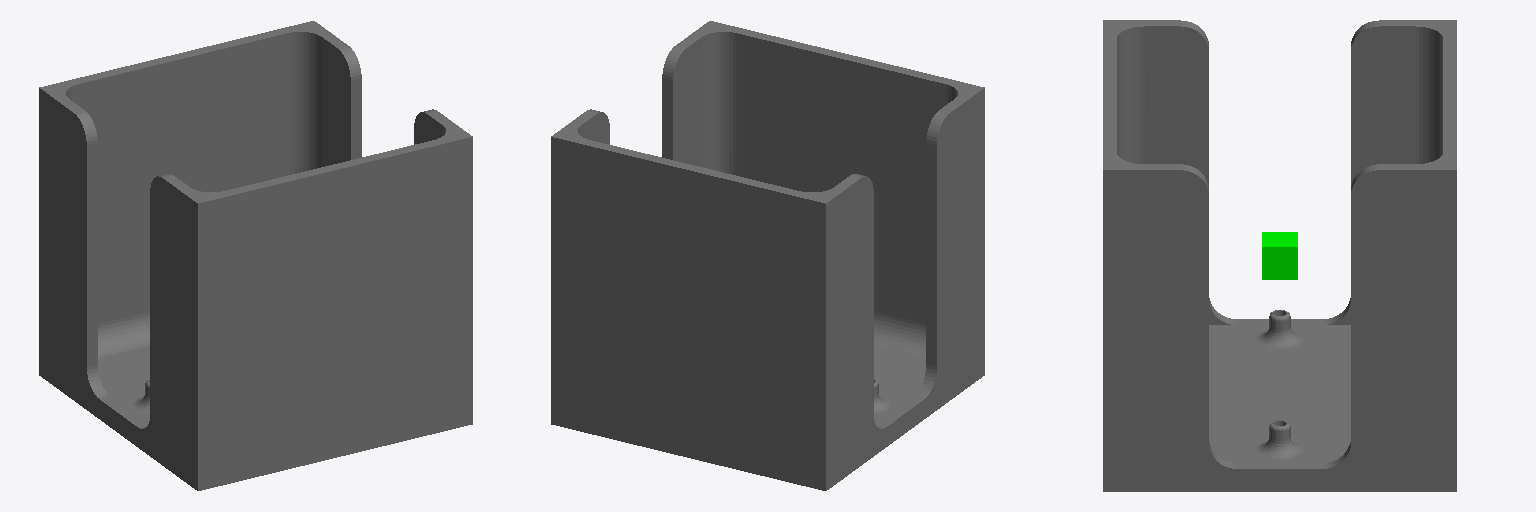
The robot description file, URDF, robot "topplebot":
<?xml version="1.0"?>
<robot name="topplebot">

  <!-- Base link of the cube -->
  <link name="base_link">
    <visual>
    <origin xyz="0 0 -0.05"/>
      <geometry>
        <mesh filename="package://viz/meshes/Calibration_Tool_01.stl" scale="0.001 0.001 0.001"/>
      </geometry>
      <material name="grey">
        <color rgba="0.5 0.5 0.5 1"/>
      </material>
    </visual>
    <inertial>
      <mass value="1.0"/>
      <origin xyz="0 0 0"/>
      <inertia ixx="0.1" ixy="0.0" ixz="0.0" iyy="0.1" iyz="0.0" izz="0.1"/>
    </inertial>
  </link>

  <!-- World link (anchor point in the TF tree) -->
  <link name="world">
    <visual>
      <geometry>
        <box size="0.01 0.01 0.01"/>
      </geometry>
      <material name="green">
        <color rgba="0 1 0 1"/>
      </material>
    </visual>
    <inertial>
      <mass value="0.01"/>
      <origin xyz="0 0 0"/>
      <inertia ixx="0.001" ixy="0.0" ixz="0.0" iyy="0.001" iyz="0.0" izz="0.001"/>
    </inertial>
  </link>

  <!-- Balancing node link -->
  <link name="balancing_node">
    <visual>
      <geometry>
        <box size="0.01 0.01 0.01"/>
      </geometry>
      <material name="red">
        <color rgba="1 0 0 1"/>
      </material>
    </visual>
    <inertial>
      <mass value="0.01"/>
      <origin xyz="0 0 0"/>
      <inertia ixx="0.001" ixy="0.0" ixz="0.0" iyy="0.001" iyz="0.0" izz="0.001"/>
    </inertial>
  </link>

  <!-- Joint connecting world to balancing_node -->
  <joint name="world_to_balancing_node" type="fixed">
    <parent link="world"/>
    <child link="balancing_node"/>
    <origin xyz="0 0 0" rpy="0 0 0"/>
  </joint>

  <!-- Joint connecting balancing_node to base_link -->
  <joint name="balancing_node_to_base_link" type="fixed">
    <parent link="balancing_node"/>
    <child link="base_link"/>
    <origin xyz="0 0 0" rpy="0 0 0"/>
  </joint>

</robot>

--- Render facts (derived) ---
The picture shows the robot from 3 angles, left to right: view 1: azimuth 30°, elevation 25°; view 2: azimuth 150°, elevation 25°; view 3: azimuth 270°, elevation 25°; orthographic projection.
Model topplebot with 3 links and 2 joints (2 fixed), rooted at world, posed all joints at 0.
Links seen in each view (by area): view 1: base_link; view 2: base_link; view 3: base_link, world.
Boxes of the visible links, x1,y1,x2,y2 form: base_link: (39,21,472,490); base_link: (551,21,984,490); base_link: (1103,20,1456,491); world: (1262,232,1297,279).
Size in the robot's own frame: 0.1 by 0.1 by 0.1 metres.
1 mesh visuals loaded from 1 distinct referenced files (1 binary STL).